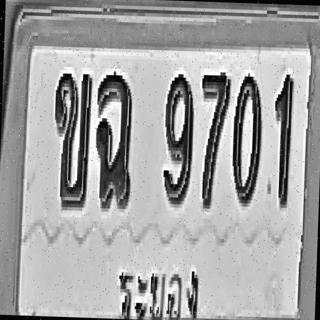A02: (50, 70, 92, 211)
A09: (93, 71, 134, 209)
N00: (230, 73, 263, 207)
N01: (270, 70, 294, 208)
N07: (197, 68, 231, 209)
N09: (162, 72, 194, 206)
P53: (115, 255, 210, 320)
